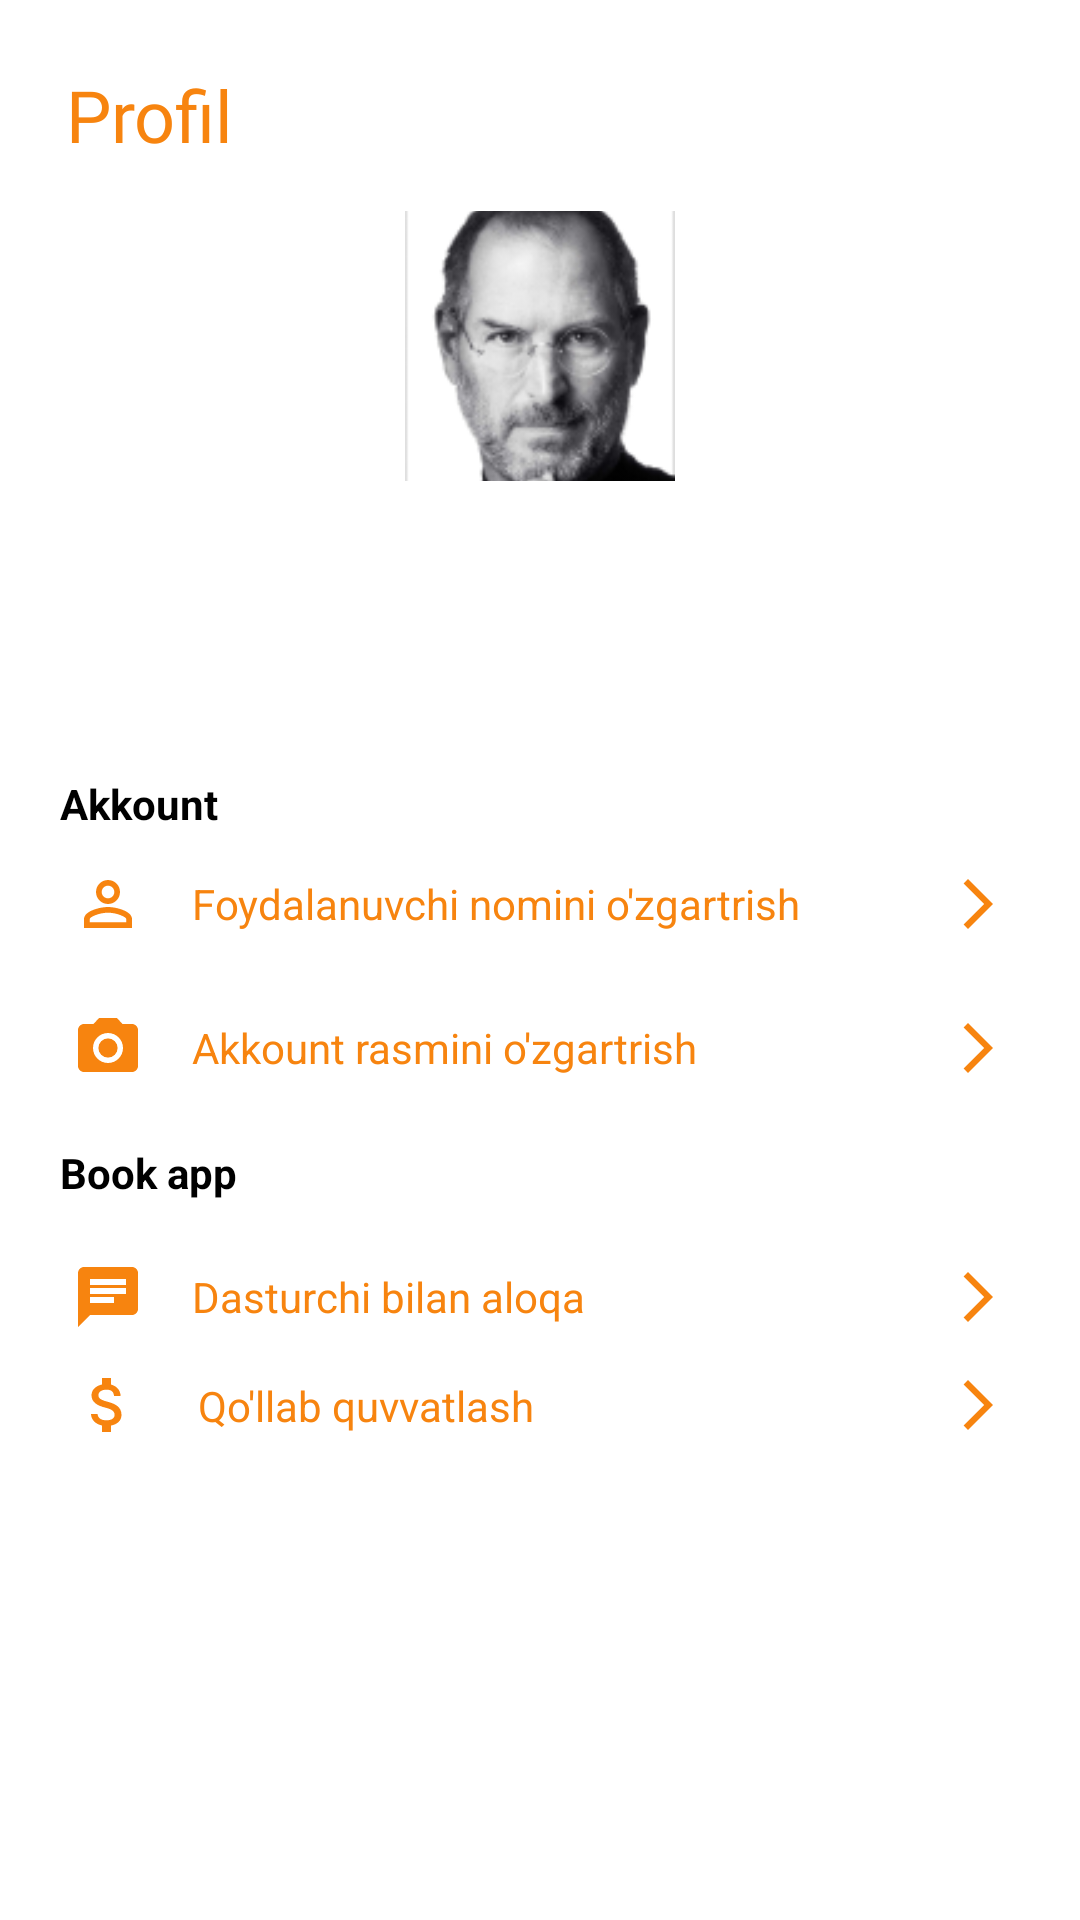

Where icons sit on this 1080x1920 app screen, as (x1, y1, x2, y2):
attach money: (91, 1378, 122, 1432)
